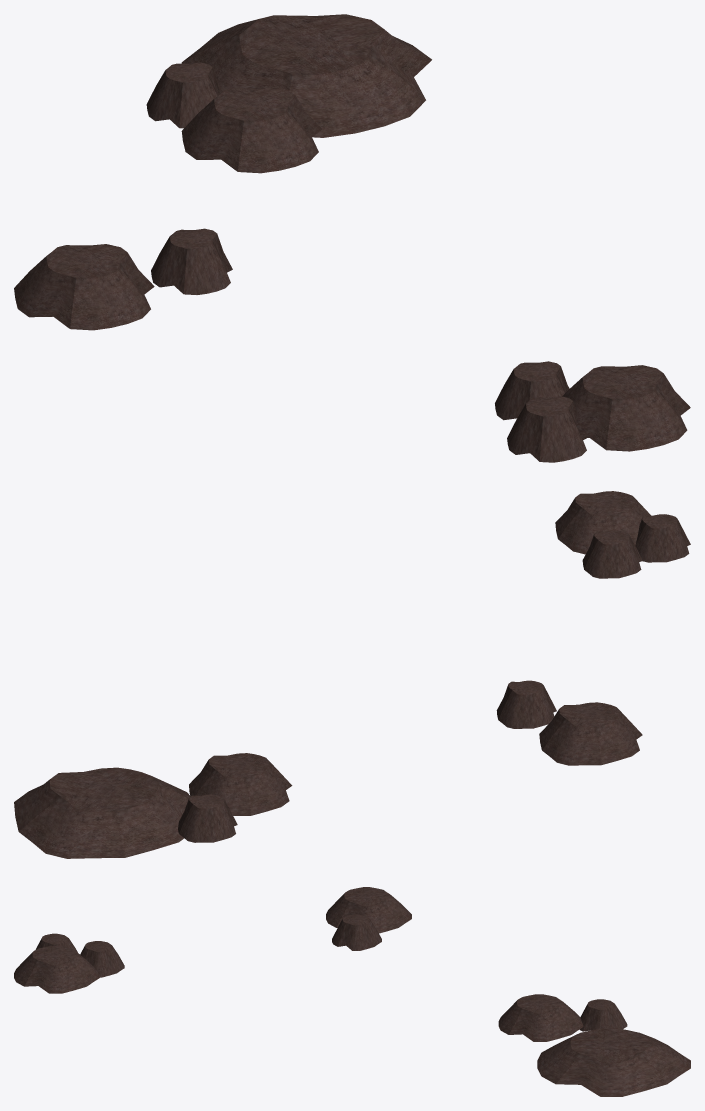
Rendered from Lava Rocks.FBX.
3 views of the same model, one above another, from view 1: azimuth 30°, elevation 25°; view 2: azimuth 150°, elevation 25°; view 3: azimuth 270°, elevation 25° (orthographic). The views are drawn at different scales.
Parts seen in each view (by area): view 1: Lava Rocks; view 2: Lava Rocks; view 3: Lava Rocks.
Boxes of the visible parts, x1,y1,x2,y2 form: Lava Rocks: (14,14,690,462); Lava Rocks: (14,491,690,858); Lava Rocks: (14,887,690,1096).
Bounding box in the file's own units: 255 × 42.89 × 432.
Materials: 1 (1 with a texture image).
